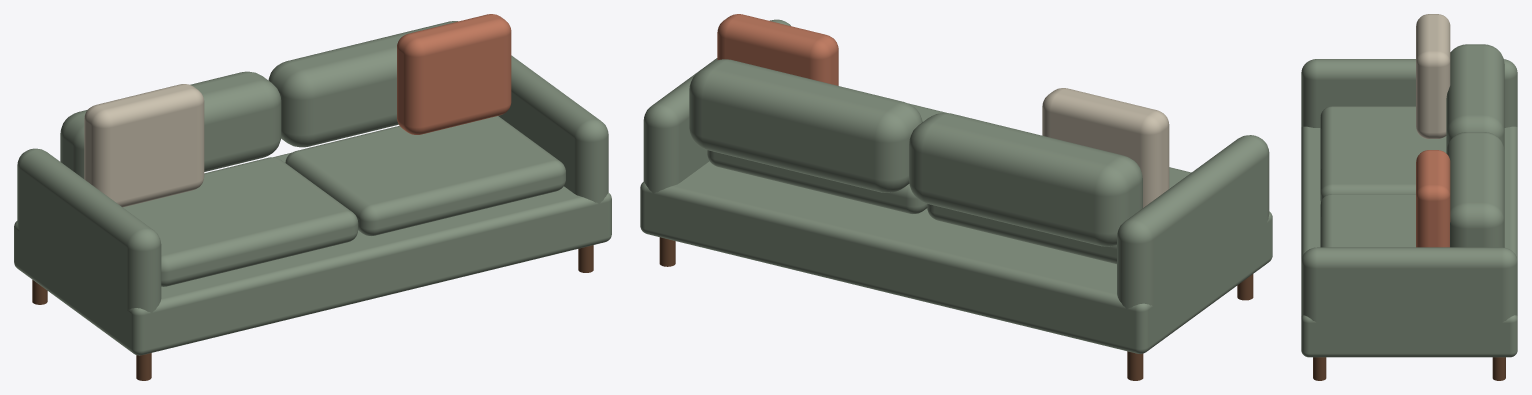
Rendered from sofa_02.gltf.
3 renders of one model, left to right at view 1: azimuth 30°, elevation 25°; view 2: azimuth 150°, elevation 25°; view 3: azimuth 270°, elevation 25°, orthographic. The views are drawn at different scales.
Parts seen in each view (by area): view 1: sofa_02; view 2: sofa_02; view 3: sofa_02.
Boxes of the visible parts, x1,y1,x2,y2 form: sofa_02: (14,14,611,380); sofa_02: (640,14,1272,380); sofa_02: (1301,14,1517,380).
Bounding box in the file's own units: 1.81 × 0.78 × 0.82.
